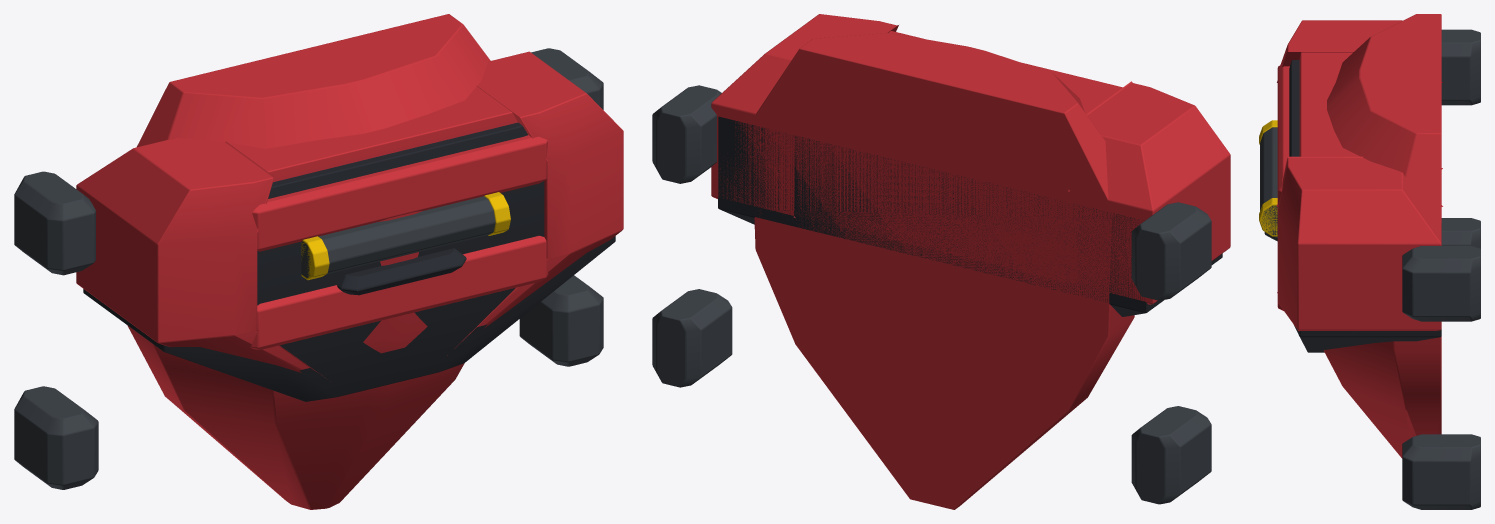
The model's file is LowerArmBack_Set02_Bastion.fbx.
3 renders of one model, left to right at view 1: azimuth 30°, elevation 25°; view 2: azimuth 150°, elevation 25°; view 3: azimuth 270°, elevation 25°, orthographic. The views are drawn at different scales.
Parts seen in each view (by area): view 1: LowerArmBack_Set02_Bastion; view 2: LowerArmBack_Set02_Bastion; view 3: LowerArmBack_Set02_Bastion.
Part boxes in pixels (bbox=[...]): LowerArmBack_Set02_Bastion: bbox=[14, 14, 623, 509]; LowerArmBack_Set02_Bastion: bbox=[652, 14, 1230, 509]; LowerArmBack_Set02_Bastion: bbox=[1259, 14, 1480, 509].
Size of the model in its own units: 0.43 by 0.33 by 0.1691.
